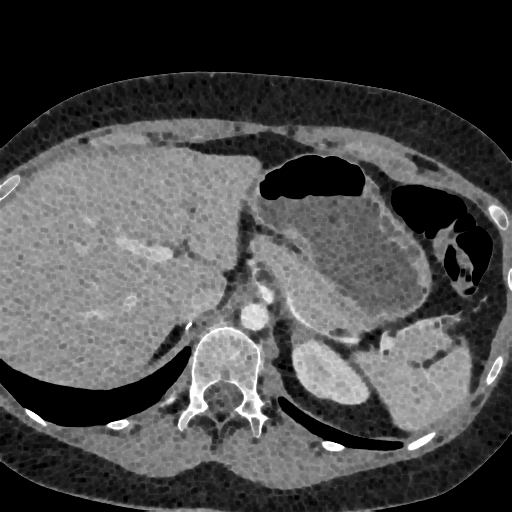Lesion: (284, 326, 318, 352)
